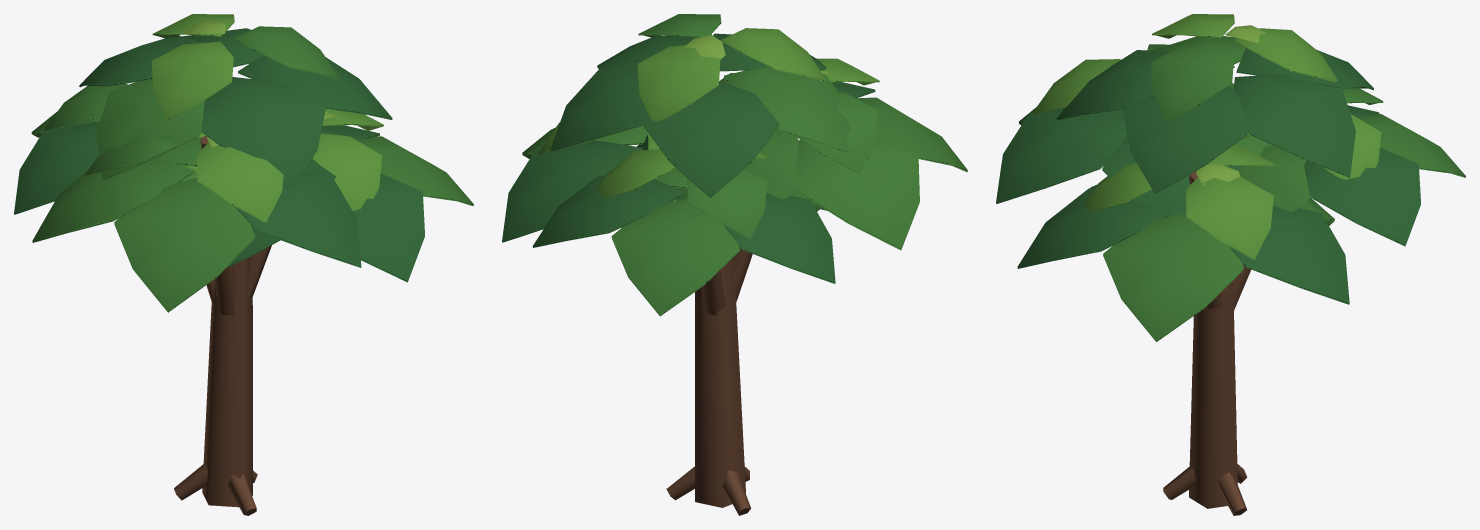
File: oak_tall-lod.glb
The picture shows the model from 3 angles, left to right: view 1: azimuth 30°, elevation 25°; view 2: azimuth 150°, elevation 25°; view 3: azimuth 270°, elevation 25°; orthographic projection.
Visible parts, largest first — view 1: oak_tall_lod; view 2: oak_tall_lod; view 3: oak_tall_lod.
Boxes of the visible parts, x1,y1,x2,y2 form: oak_tall_lod: [14, 14, 473, 515]; oak_tall_lod: [502, 14, 967, 515]; oak_tall_lod: [996, 14, 1465, 515].
Bounding box in the file's own units: 2.52 × 2.77 × 2.51.
